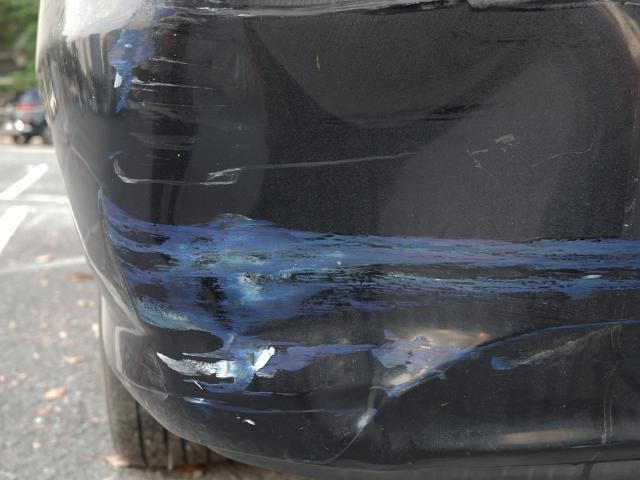Bumper: (49, 10, 640, 462)
